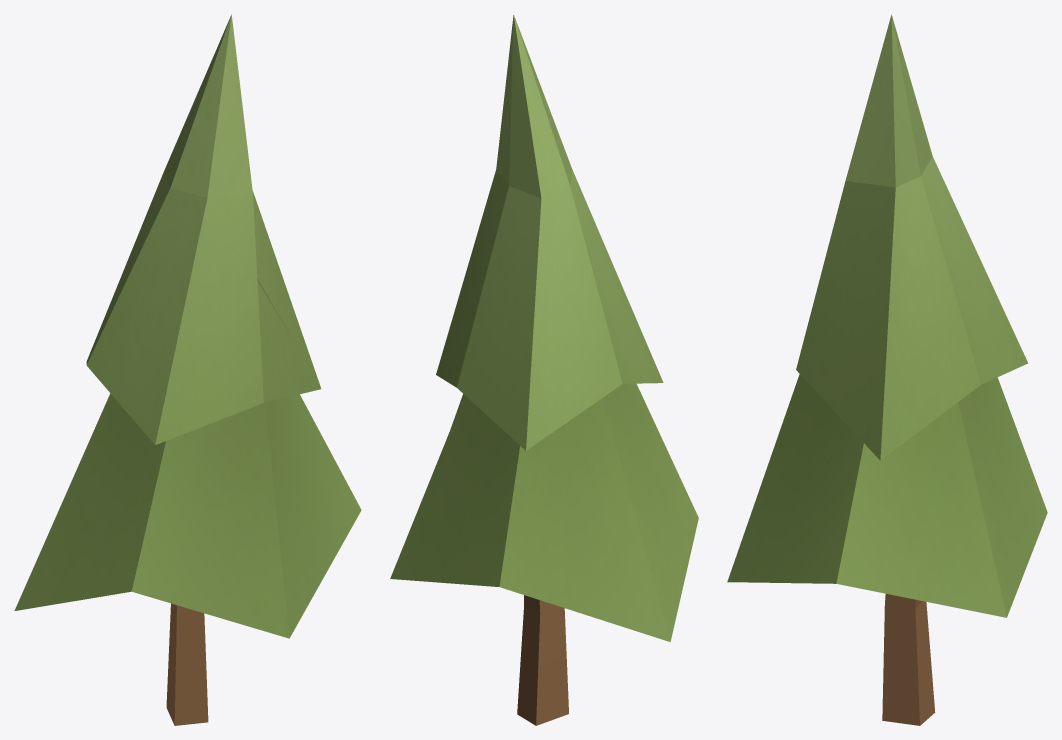
The model's file is pine-tree-s-08.glb.
3 renders of one model, left to right at view 1: azimuth 30°, elevation 25°; view 2: azimuth 150°, elevation 25°; view 3: azimuth 270°, elevation 25°, orthographic. The views are drawn at different scales.
Visible parts, largest first — view 1: Pine_Tree_s_08; view 2: Pine_Tree_s_08; view 3: Pine_Tree_s_08.
Part boxes in pixels (x1,y1,x2,y2): Pine_Tree_s_08: (14, 14, 361, 725); Pine_Tree_s_08: (390, 15, 698, 725); Pine_Tree_s_08: (727, 14, 1047, 725).
Size of the model in its own units: 0.7523 by 1.72 by 0.6934.
Materials: 1 (1 with a texture image).
